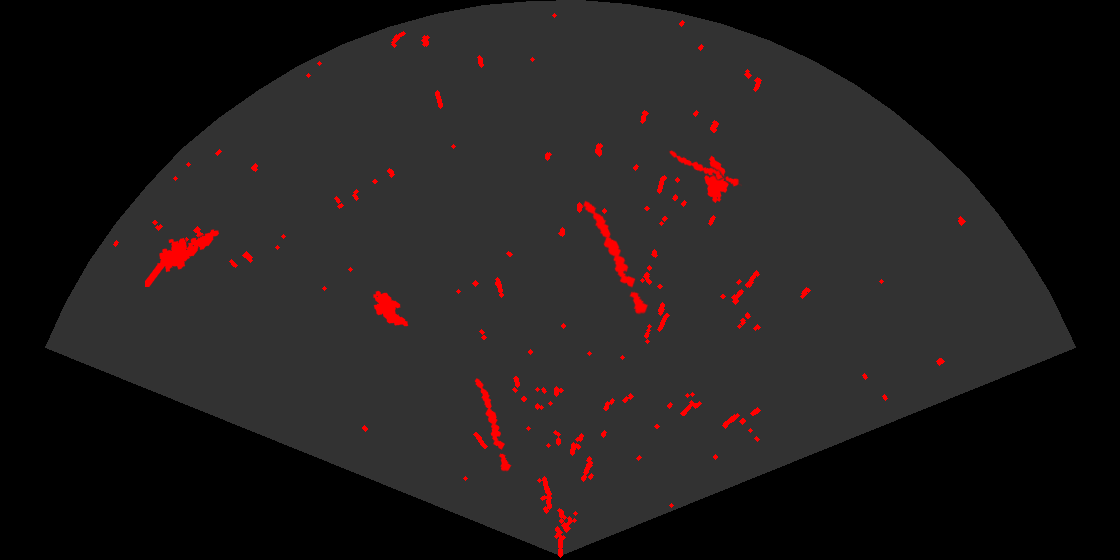AUV: (372, 289, 410, 328), (703, 154, 730, 205)
chain: (582, 199, 650, 316), (473, 377, 513, 474), (667, 149, 742, 188)
frogman: (145, 228, 221, 287)
